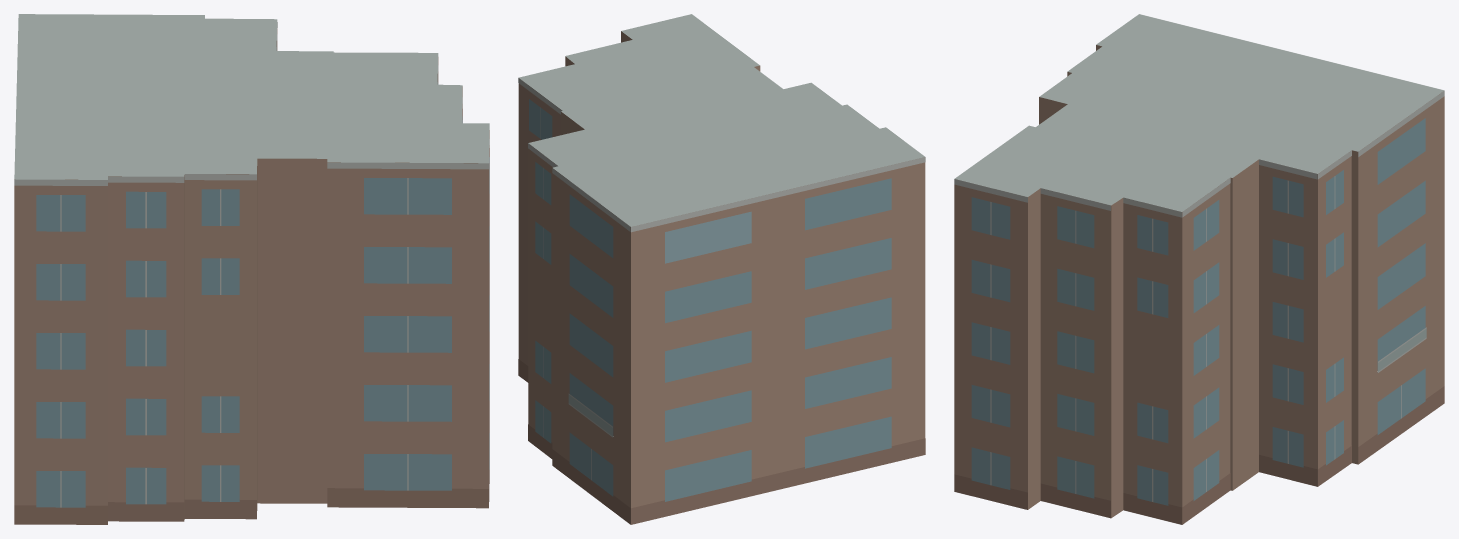
The model's file is survey-upis-32925310.glb.
3 views of the same model, side by side, from view 1: azimuth 30°, elevation 25°; view 2: azimuth 150°, elevation 25°; view 3: azimuth 270°, elevation 25° (orthographic). The views are drawn at different scales.
Parts seen in each view (by area): view 1: survey-upis-32925310.tmp; view 2: survey-upis-32925310.tmp; view 3: survey-upis-32925310.tmp.
Boxes of the visible parts, <box> form: survey-upis-32925310.tmp: <box>14,14,489,524</box>; survey-upis-32925310.tmp: <box>518,14,925,524</box>; survey-upis-32925310.tmp: <box>954,14,1444,524</box>.
Size of the model in its own units: 18.55 by 13.65 by 19.4.
